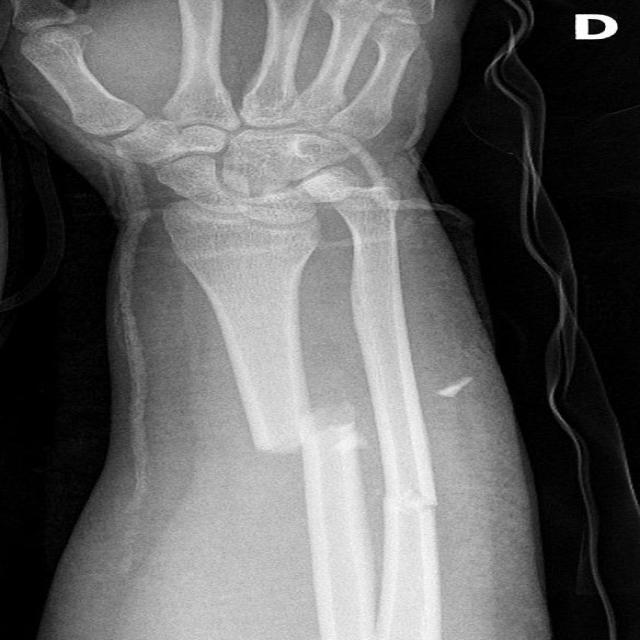fractured: (204, 383, 382, 508)
